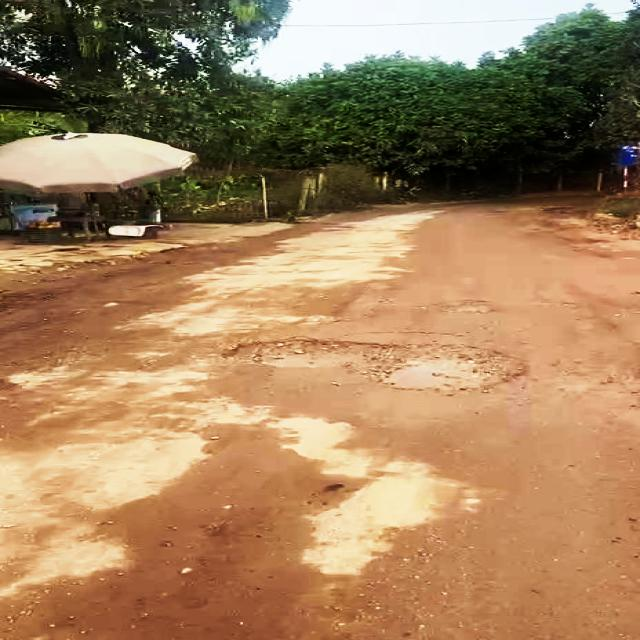pothole: (220, 338, 536, 398), (442, 297, 514, 316)
